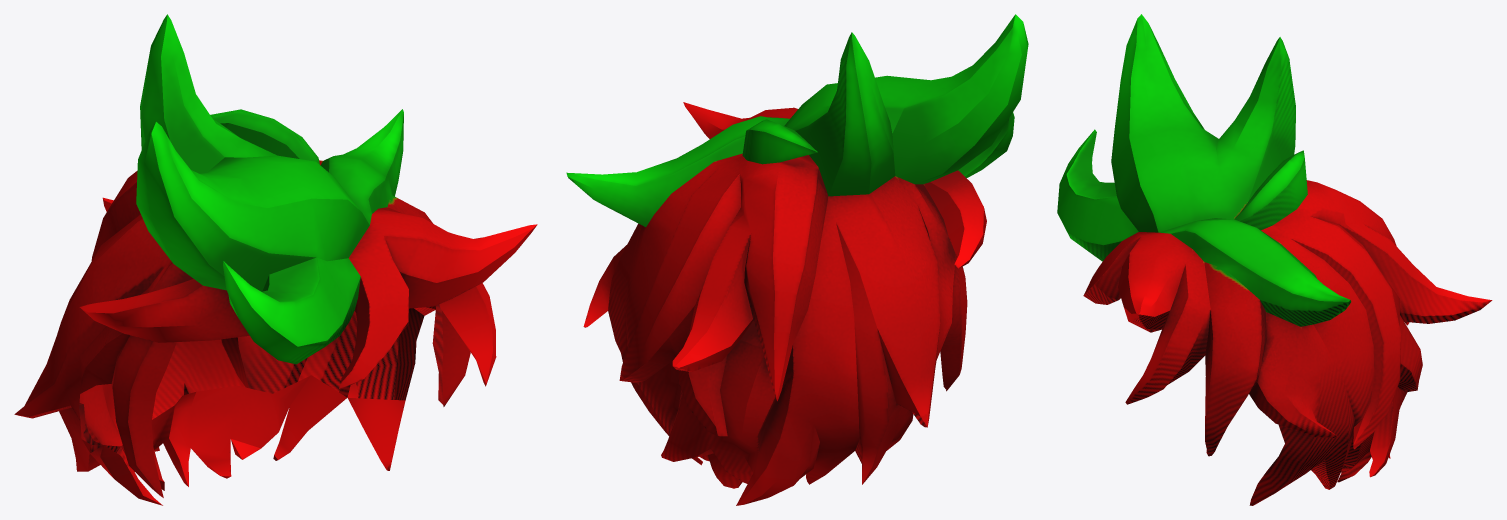
Rendered from SM_Player_Hair_MenManga.glb.
3 views of the same model, side by side, from view 1: azimuth 30°, elevation 25°; view 2: azimuth 150°, elevation 25°; view 3: azimuth 270°, elevation 25° (orthographic). The views are drawn at different scales.
Parts seen in each view (by area): view 1: SM_Player_Hair_MenManga; view 2: SM_Player_Hair_MenManga; view 3: SM_Player_Hair_MenManga.
Boxes of the visible parts, left/top/right/bottom form: SM_Player_Hair_MenManga: left=14, top=14, right=537, bottom=505; SM_Player_Hair_MenManga: left=566, top=14, right=1028, bottom=505; SM_Player_Hair_MenManga: left=1057, top=14, right=1492, bottom=505.
Bounding box in the file's own units: 0.4996 × 0.614 × 0.5933.
Materials: 1 (1 with a texture image).
